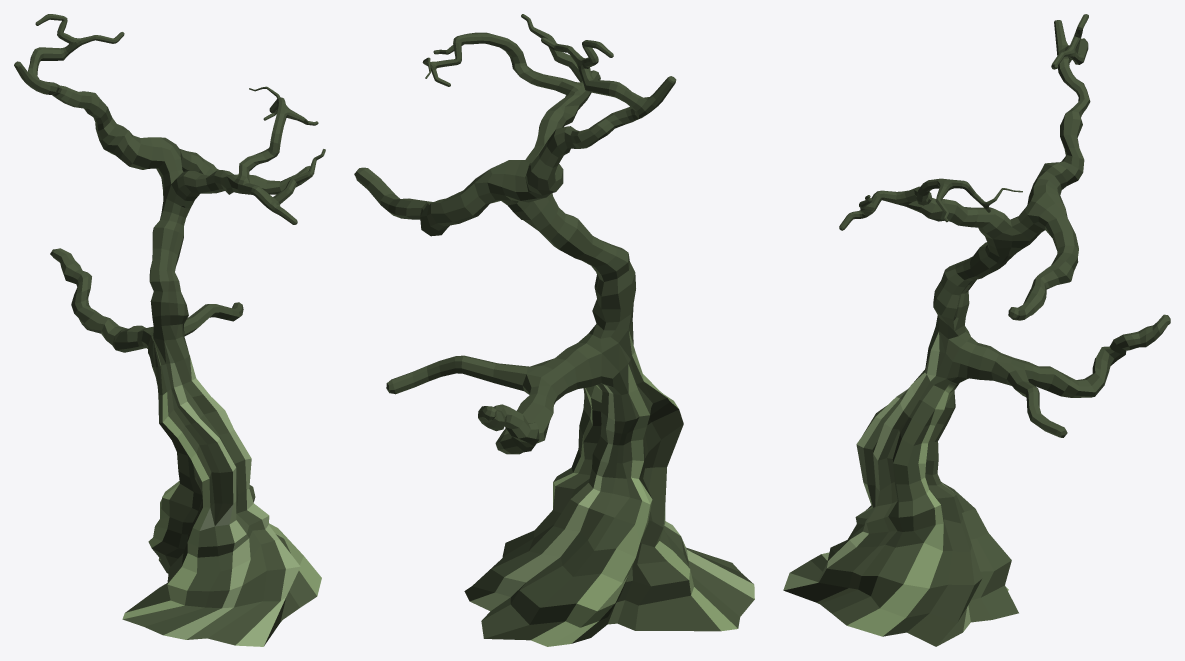
Rendered from EA_Swamp_tree8.glb.
3 renders of one model, left to right at view 1: azimuth 30°, elevation 25°; view 2: azimuth 150°, elevation 25°; view 3: azimuth 270°, elevation 25°, orthographic. The views are drawn at different scales.
Parts seen in each view (by area): view 1: EA_Swamp_tree8; view 2: EA_Swamp_tree8; view 3: EA_Swamp_tree8.
Part boxes in pixels (x1,y1,x2,y2): EA_Swamp_tree8: [14, 14, 325, 646]; EA_Swamp_tree8: [354, 14, 754, 646]; EA_Swamp_tree8: [783, 14, 1170, 646].
Bounding box in the file's own units: 6.02 × 11.19 × 7.22.
1 material, 1 textured.
